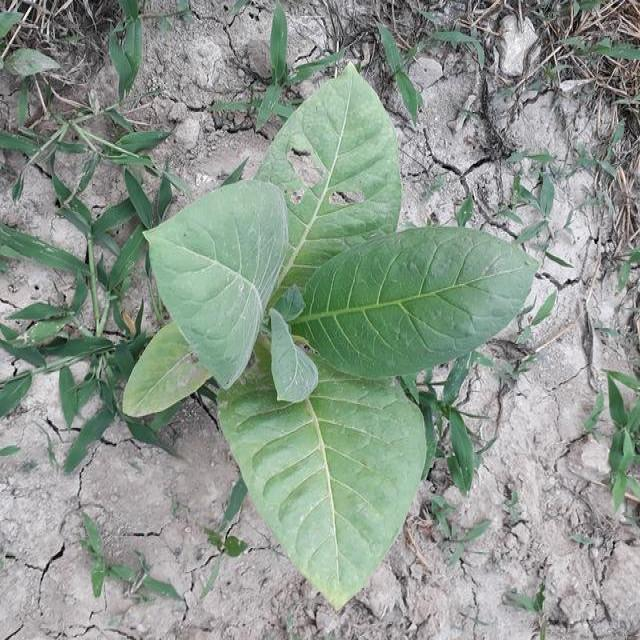crop: (112, 66, 532, 615)
